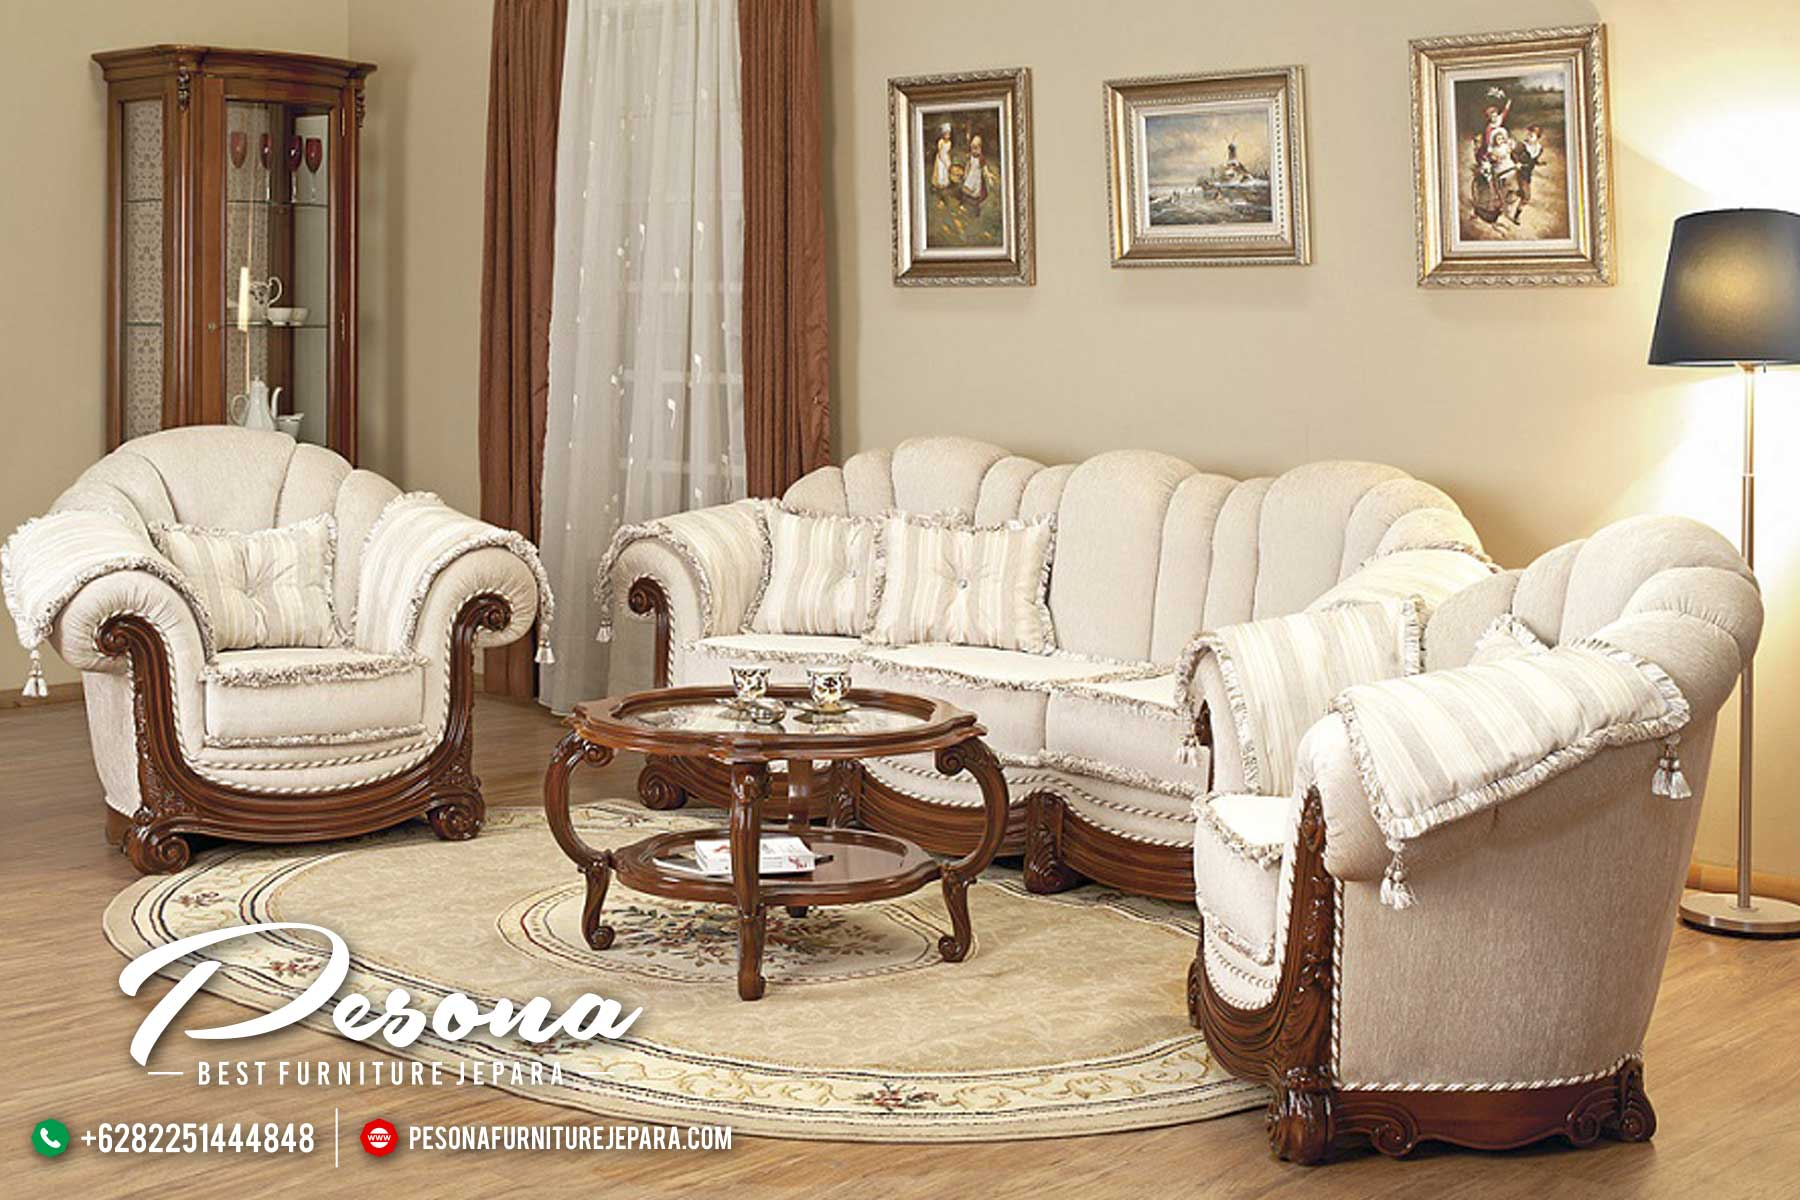Carving Chair: (642, 433, 1741, 1171), (39, 423, 536, 842)
Carving Table: (552, 684, 996, 958)
